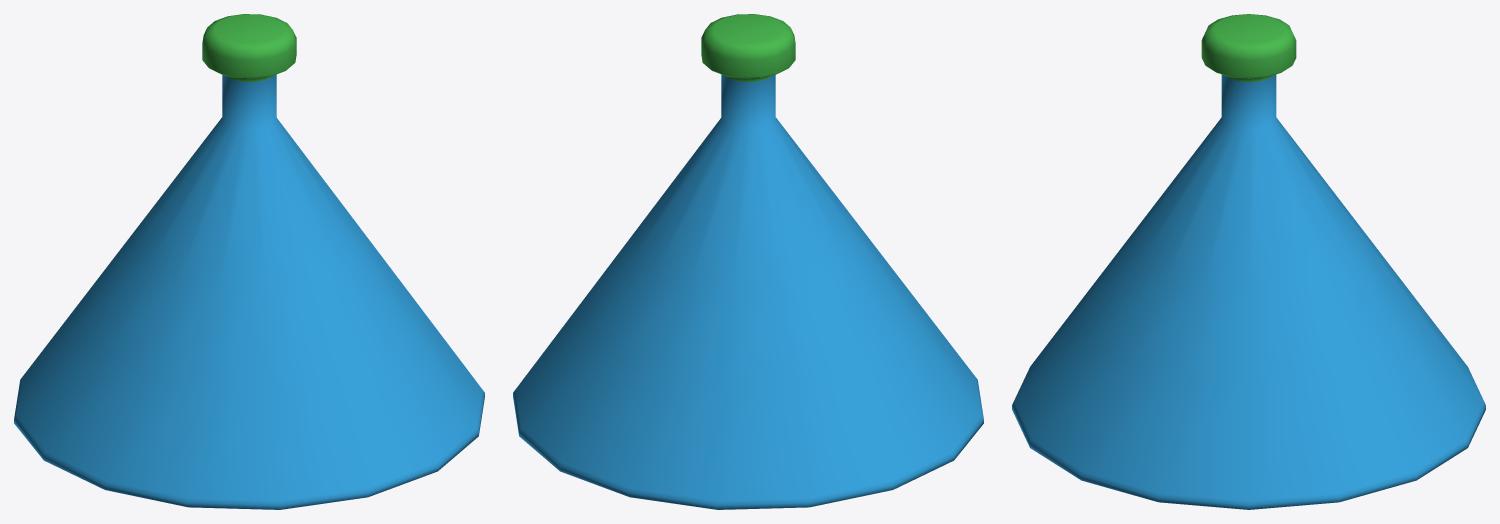
The model's file is TwoMPotionN2.fbx.
The picture shows the model from 3 angles, left to right: view 1: azimuth 30°, elevation 25°; view 2: azimuth 150°, elevation 25°; view 3: azimuth 270°, elevation 25°; orthographic projection.
Parts seen in each view (by area): view 1: PotionN2; view 2: PotionN2; view 3: PotionN2.
Part boxes in pixels (x1,y1,x2,y2): PotionN2: (14, 14, 484, 509); PotionN2: (513, 14, 983, 509); PotionN2: (1012, 14, 1485, 509).
Bounding box in the file's own units: 0.1722 × 0.1534 × 0.1722.
